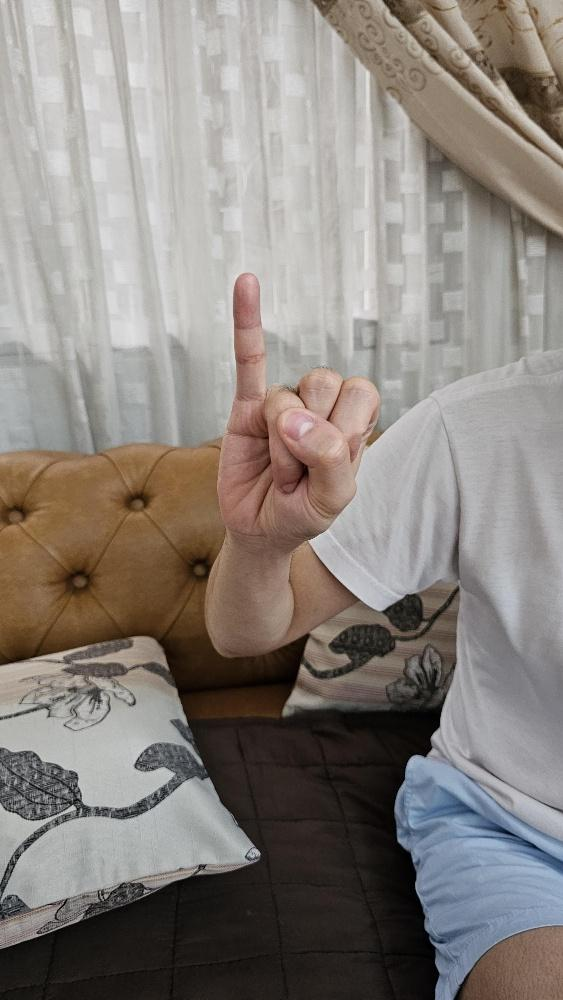i: (215, 269, 381, 545)
